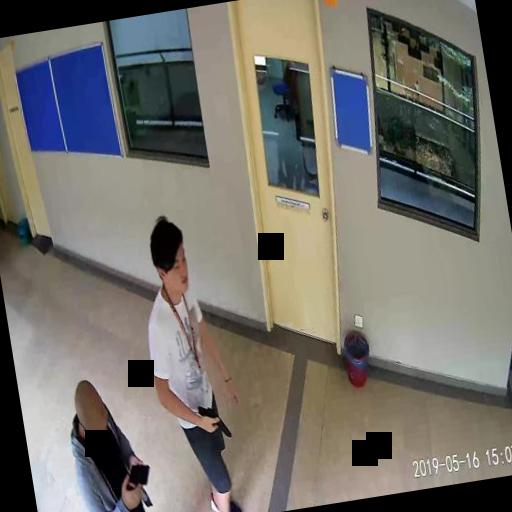Handgun: (195, 399, 230, 441)
